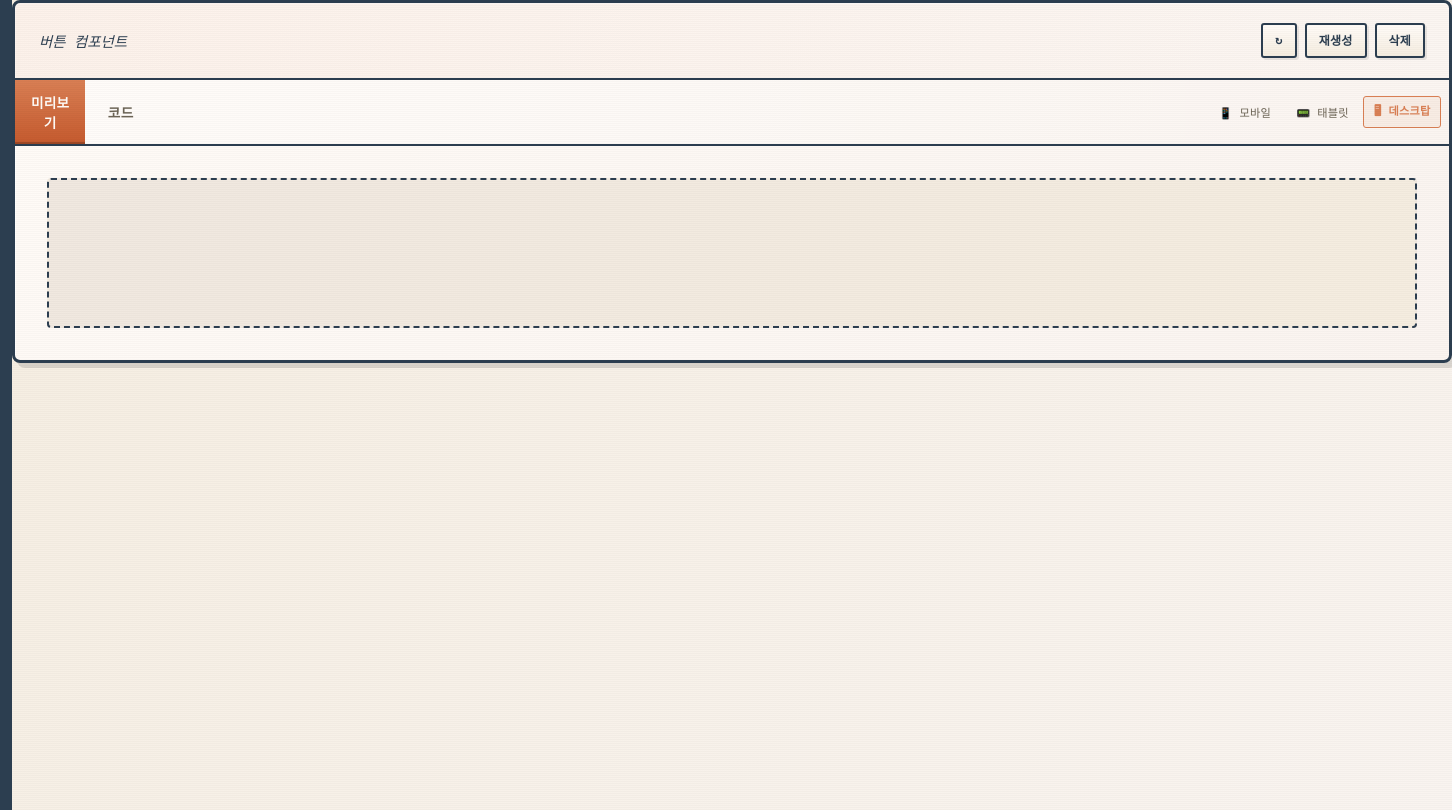
Test: ComponentCard - 반응형 뷰포트 버튼 › 코드 탭에서 미리보기로 돌아오면 뷰포트 버튼이 다시 표시된다
Click the button "코드" at (121, 112), box [85,80,156,144]
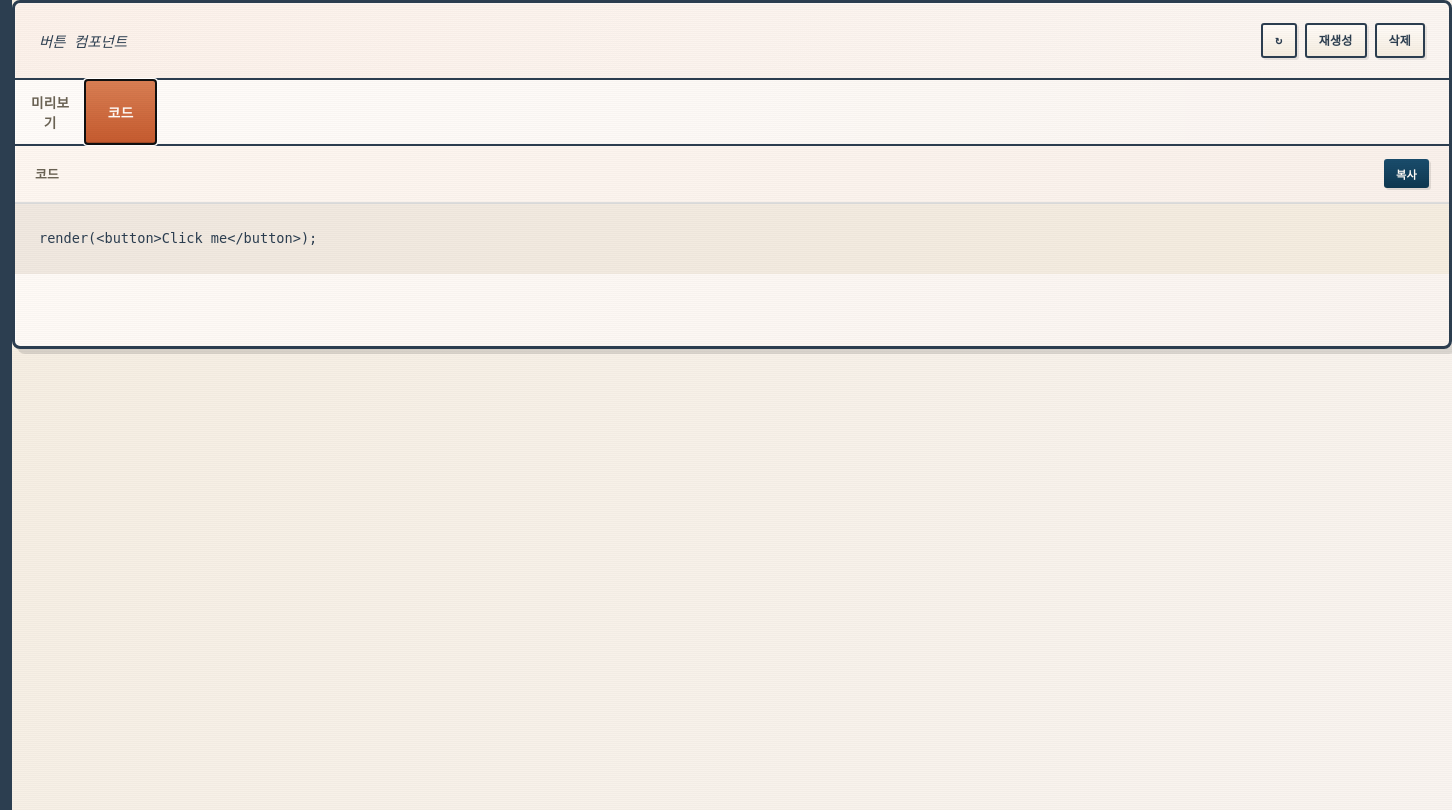
Click the button "미리보기" at (50, 112), box [15,80,85,144]
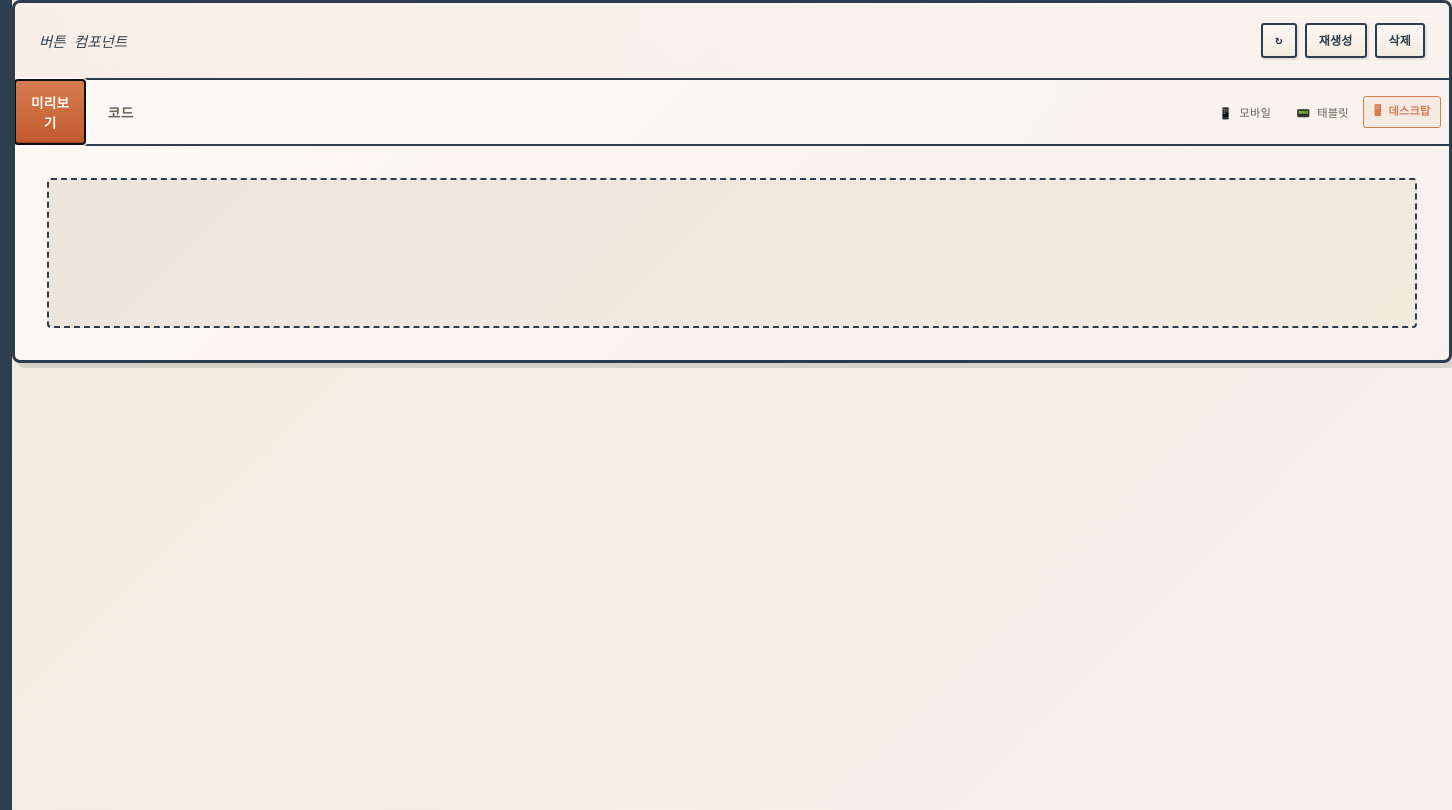
Now the button titled "모바일 (375px)" is shown, box [1208,96,1282,128]
